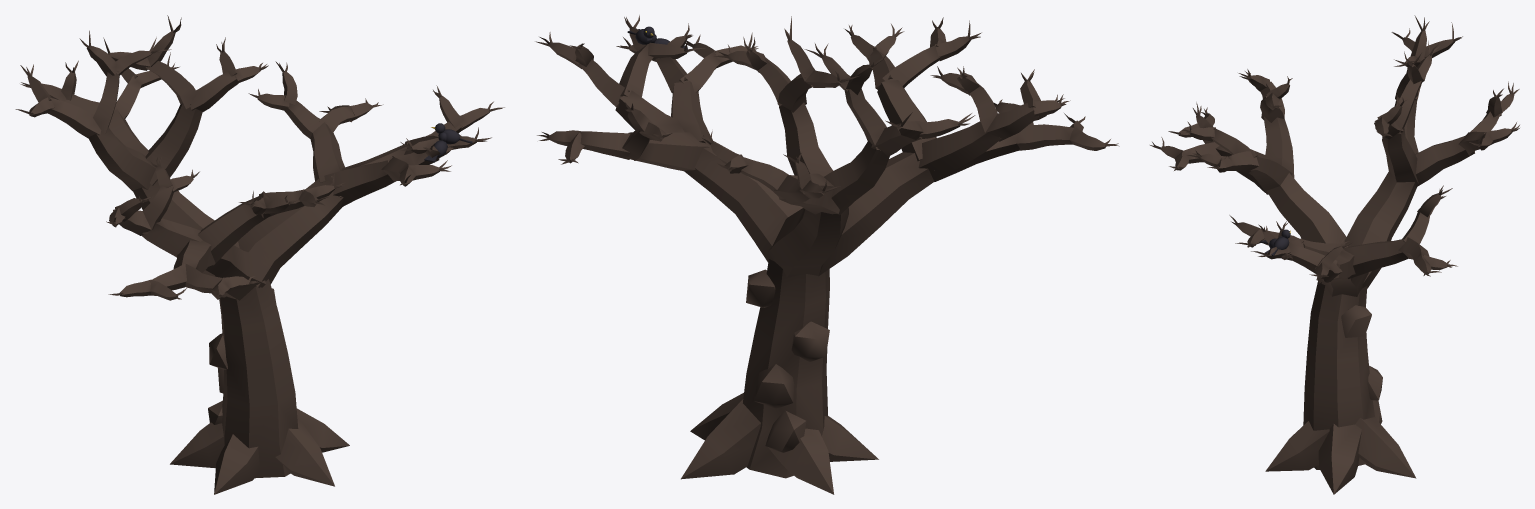
The model's file is env_tree_a.glb.
The picture shows the model from 3 angles, left to right: view 1: azimuth 30°, elevation 25°; view 2: azimuth 150°, elevation 25°; view 3: azimuth 270°, elevation 25°; orthographic projection. The views are drawn at different scales.
Parts seen in each view (by area): view 1: env_tree_a; view 2: env_tree_a; view 3: env_tree_a.
Part boxes in pixels (bbox=[...]): env_tree_a: bbox=[15, 15, 504, 494]; env_tree_a: bbox=[535, 15, 1119, 494]; env_tree_a: bbox=[1150, 15, 1519, 494].
Bounding box in the file's own units: 6.67 × 6 × 5.22.
